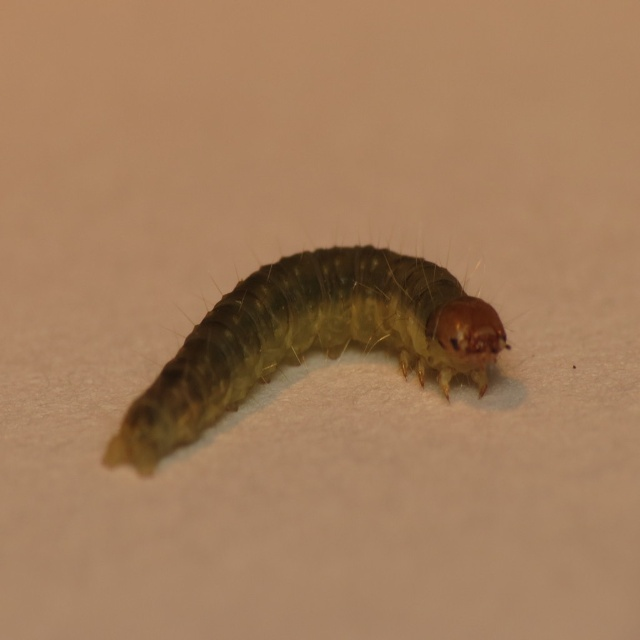Caterpillar: (101, 224, 524, 478)
